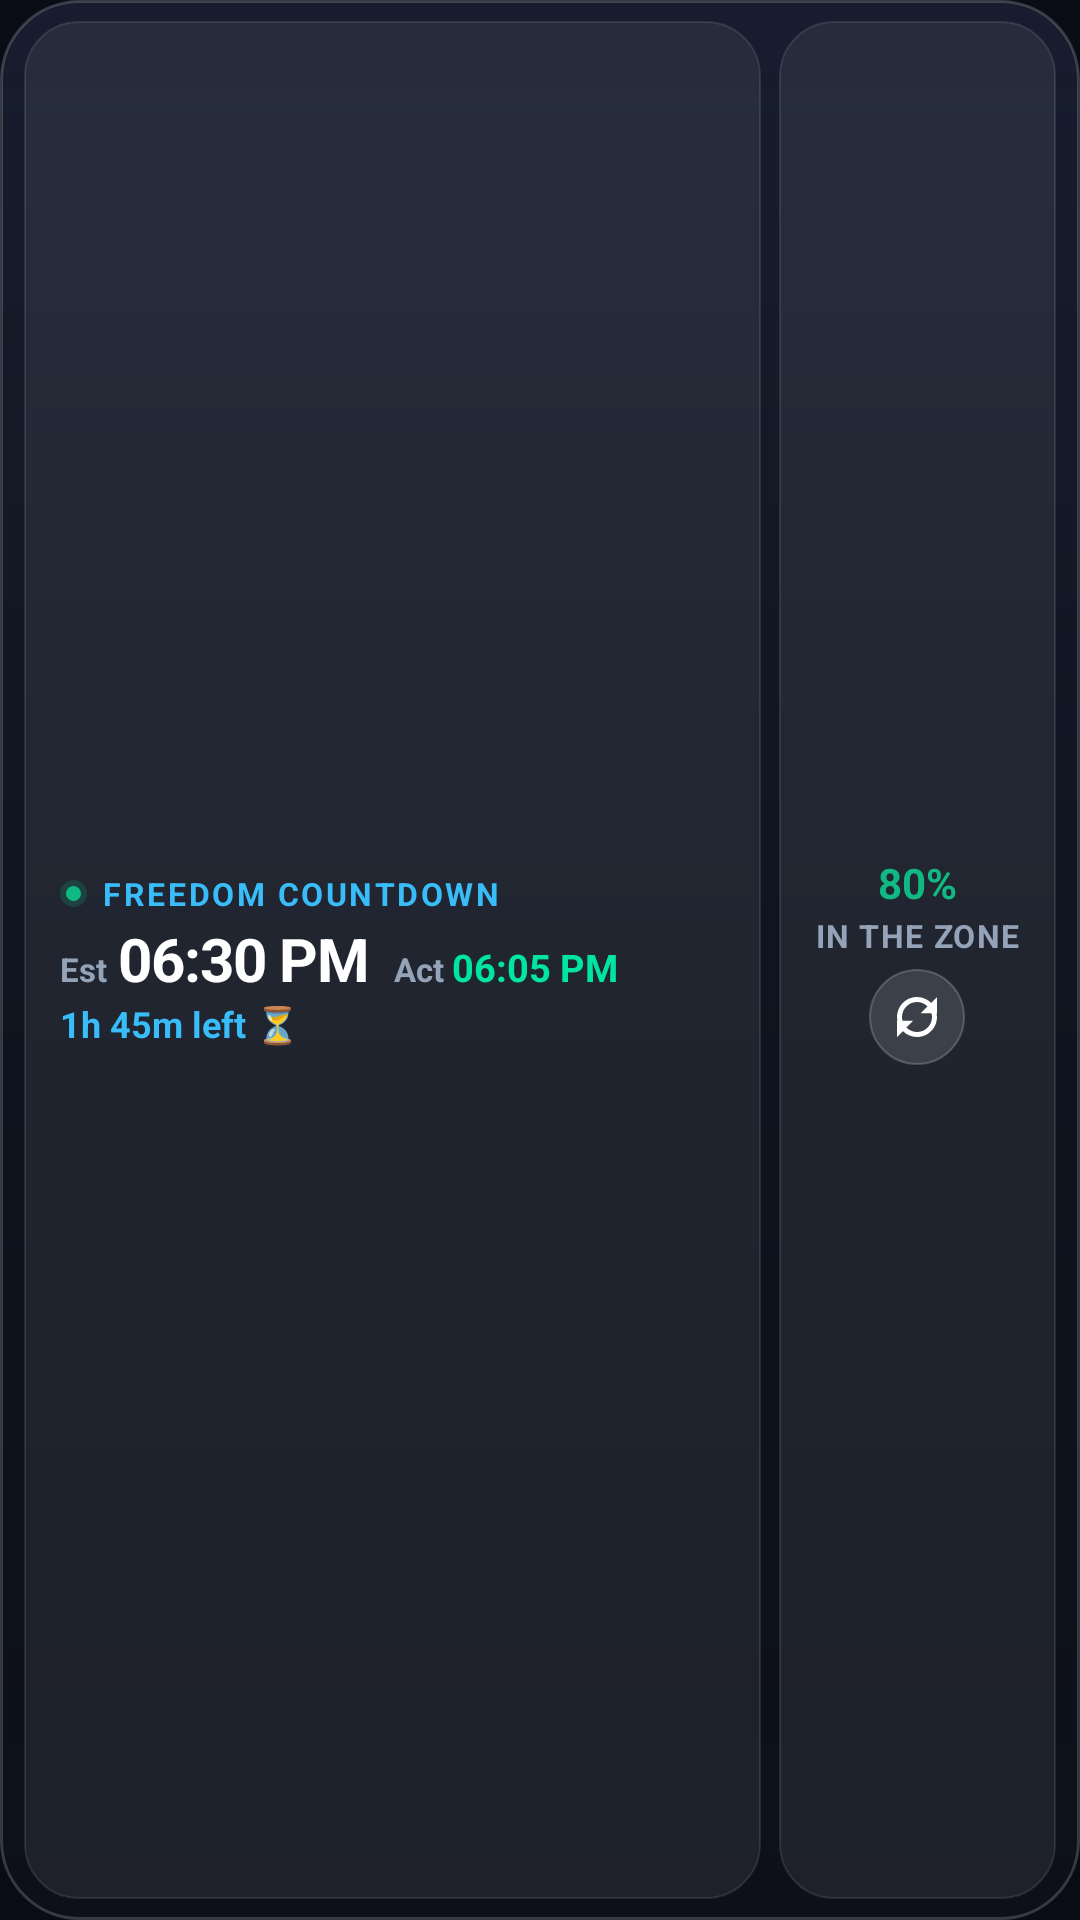

Locate icon controls on the screen. Image size 1080x1920, boxes as bbox=(x1, y1, x2, y2).
Live Beacon: bbox=(60, 880, 87, 907)
Refresh attendance stats: bbox=(869, 969, 965, 1065)
